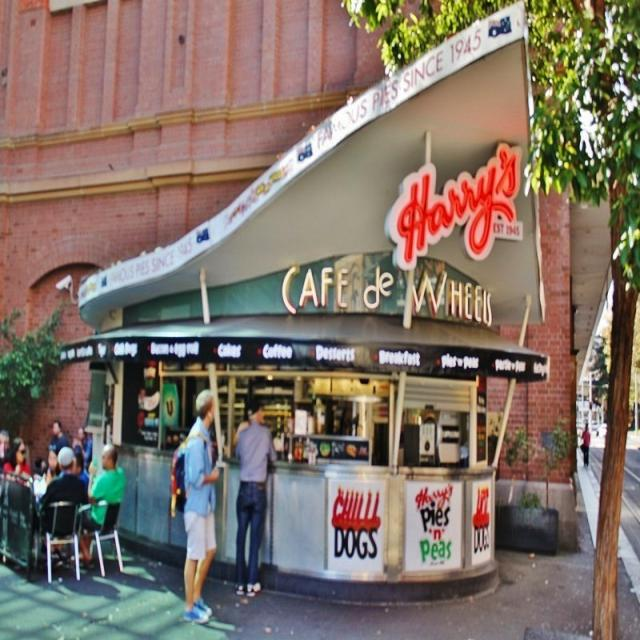body: (168, 386, 222, 626), (232, 397, 278, 600), (38, 445, 88, 573), (75, 442, 126, 566), (54, 447, 90, 511), (2, 436, 32, 486), (38, 448, 61, 500), (232, 396, 254, 449), (72, 424, 94, 472), (48, 419, 70, 457), (0, 428, 14, 472), (579, 422, 591, 468), (40, 458, 47, 472)
